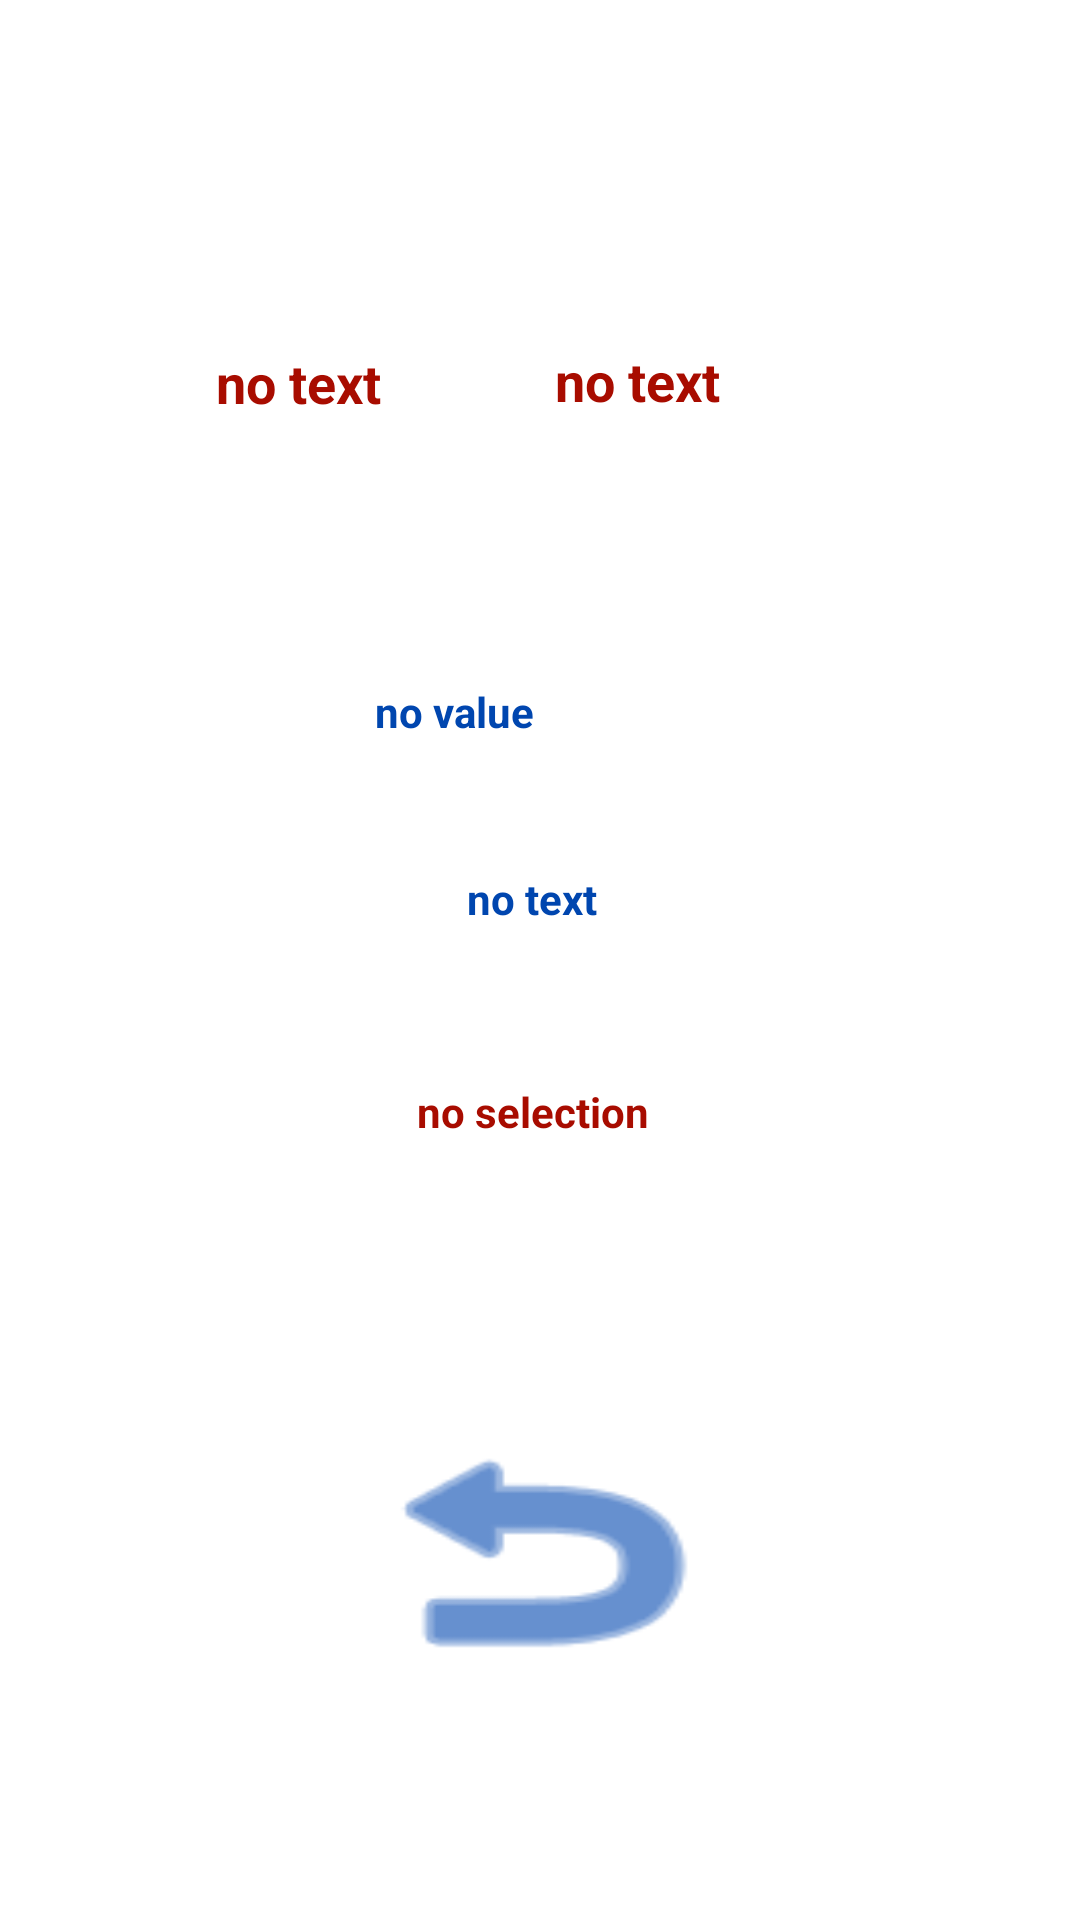

Screen size 1080 x 1920. Icon name, then its center in pixels as point (x, y):
revert: point (545, 1553)
